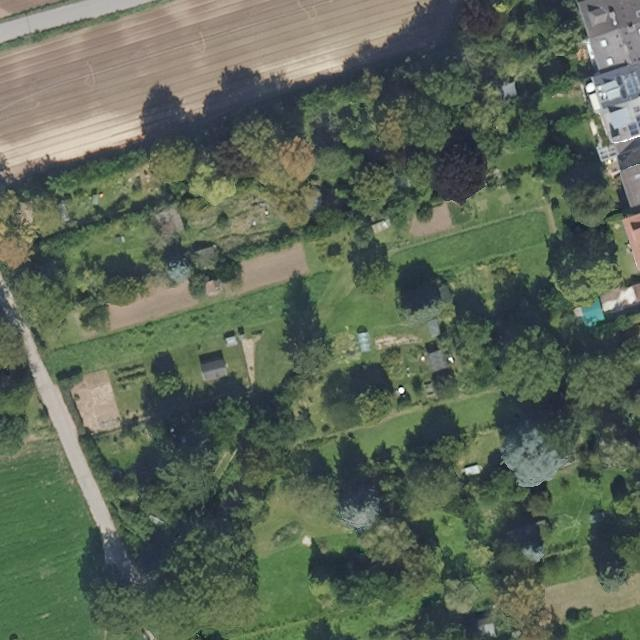PV: (625, 76, 639, 97), (627, 122, 639, 137)
